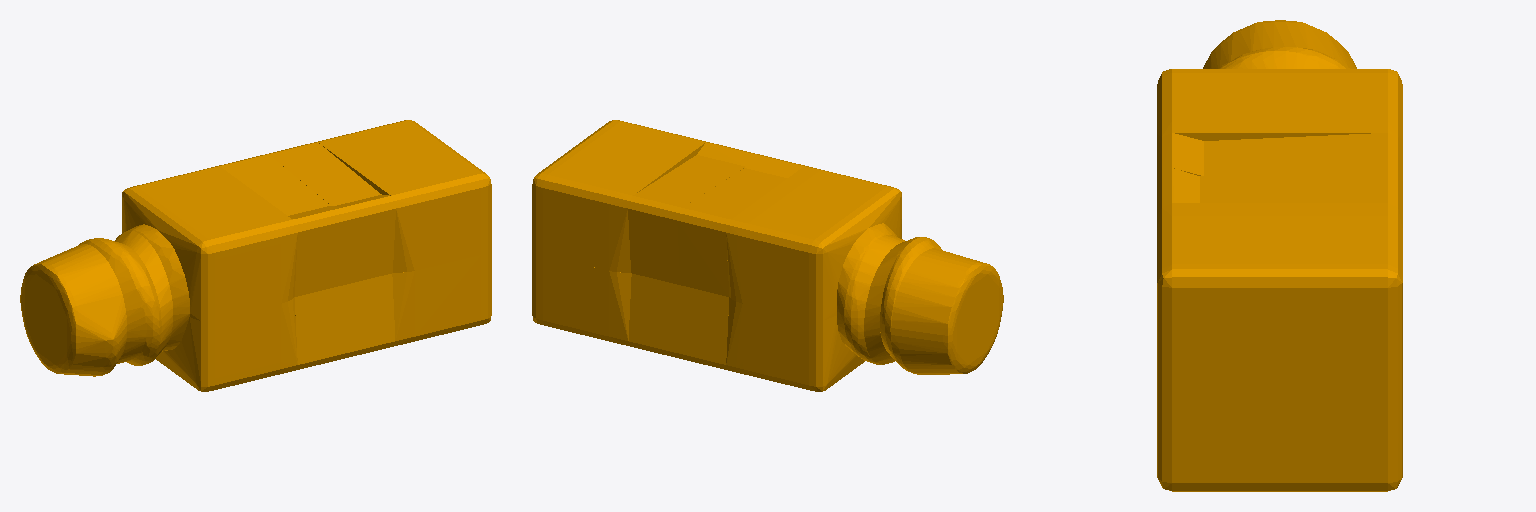
robot.urdf — square_table_leg4_coacd:
<?xml version="1.0"?>
<robot name="square_table_leg4_coacd">
  <link name="square_table_leg4_coacd">
    <visual><origin xyz="0 0 0" rpy="0 0 0"/><geometry><mesh filename="decomp_0.obj" scale="1 1 1"/></geometry></visual>
    <visual><origin xyz="0 0 0" rpy="0 0 0"/><geometry><mesh filename="decomp_1.obj" scale="1 1 1"/></geometry></visual>
    <visual><origin xyz="0 0 0" rpy="0 0 0"/><geometry><mesh filename="decomp_10.obj" scale="1 1 1"/></geometry></visual>
    <visual><origin xyz="0 0 0" rpy="0 0 0"/><geometry><mesh filename="decomp_11.obj" scale="1 1 1"/></geometry></visual>
    <visual><origin xyz="0 0 0" rpy="0 0 0"/><geometry><mesh filename="decomp_12.obj" scale="1 1 1"/></geometry></visual>
    <visual><origin xyz="0 0 0" rpy="0 0 0"/><geometry><mesh filename="decomp_13.obj" scale="1 1 1"/></geometry></visual>
    <visual><origin xyz="0 0 0" rpy="0 0 0"/><geometry><mesh filename="decomp_14.obj" scale="1 1 1"/></geometry></visual>
    <visual><origin xyz="0 0 0" rpy="0 0 0"/><geometry><mesh filename="decomp_15.obj" scale="1 1 1"/></geometry></visual>
    <visual><origin xyz="0 0 0" rpy="0 0 0"/><geometry><mesh filename="decomp_16.obj" scale="1 1 1"/></geometry></visual>
    <visual><origin xyz="0 0 0" rpy="0 0 0"/><geometry><mesh filename="decomp_2.obj" scale="1 1 1"/></geometry></visual>
    <visual><origin xyz="0 0 0" rpy="0 0 0"/><geometry><mesh filename="decomp_3.obj" scale="1 1 1"/></geometry></visual>
    <visual><origin xyz="0 0 0" rpy="0 0 0"/><geometry><mesh filename="decomp_4.obj" scale="1 1 1"/></geometry></visual>
    <visual><origin xyz="0 0 0" rpy="0 0 0"/><geometry><mesh filename="decomp_5.obj" scale="1 1 1"/></geometry></visual>
    <visual><origin xyz="0 0 0" rpy="0 0 0"/><geometry><mesh filename="decomp_6.obj" scale="1 1 1"/></geometry></visual>
    <visual><origin xyz="0 0 0" rpy="0 0 0"/><geometry><mesh filename="decomp_7.obj" scale="1 1 1"/></geometry></visual>
    <visual><origin xyz="0 0 0" rpy="0 0 0"/><geometry><mesh filename="decomp_8.obj" scale="1 1 1"/></geometry></visual>
    <visual><origin xyz="0 0 0" rpy="0 0 0"/><geometry><mesh filename="decomp_9.obj" scale="1 1 1"/></geometry></visual>
    <collision><origin xyz="0 0 0" rpy="0 0 0"/><geometry><mesh filename="decomp_0.obj" scale="1 1 1"/></geometry></collision>
    <collision><origin xyz="0 0 0" rpy="0 0 0"/><geometry><mesh filename="decomp_1.obj" scale="1 1 1"/></geometry></collision>
    <collision><origin xyz="0 0 0" rpy="0 0 0"/><geometry><mesh filename="decomp_10.obj" scale="1 1 1"/></geometry></collision>
    <collision><origin xyz="0 0 0" rpy="0 0 0"/><geometry><mesh filename="decomp_11.obj" scale="1 1 1"/></geometry></collision>
    <collision><origin xyz="0 0 0" rpy="0 0 0"/><geometry><mesh filename="decomp_12.obj" scale="1 1 1"/></geometry></collision>
    <collision><origin xyz="0 0 0" rpy="0 0 0"/><geometry><mesh filename="decomp_13.obj" scale="1 1 1"/></geometry></collision>
    <collision><origin xyz="0 0 0" rpy="0 0 0"/><geometry><mesh filename="decomp_14.obj" scale="1 1 1"/></geometry></collision>
    <collision><origin xyz="0 0 0" rpy="0 0 0"/><geometry><mesh filename="decomp_15.obj" scale="1 1 1"/></geometry></collision>
    <collision><origin xyz="0 0 0" rpy="0 0 0"/><geometry><mesh filename="decomp_16.obj" scale="1 1 1"/></geometry></collision>
    <collision><origin xyz="0 0 0" rpy="0 0 0"/><geometry><mesh filename="decomp_2.obj" scale="1 1 1"/></geometry></collision>
    <collision><origin xyz="0 0 0" rpy="0 0 0"/><geometry><mesh filename="decomp_3.obj" scale="1 1 1"/></geometry></collision>
    <collision><origin xyz="0 0 0" rpy="0 0 0"/><geometry><mesh filename="decomp_4.obj" scale="1 1 1"/></geometry></collision>
    <collision><origin xyz="0 0 0" rpy="0 0 0"/><geometry><mesh filename="decomp_5.obj" scale="1 1 1"/></geometry></collision>
    <collision><origin xyz="0 0 0" rpy="0 0 0"/><geometry><mesh filename="decomp_6.obj" scale="1 1 1"/></geometry></collision>
    <collision><origin xyz="0 0 0" rpy="0 0 0"/><geometry><mesh filename="decomp_7.obj" scale="1 1 1"/></geometry></collision>
    <collision><origin xyz="0 0 0" rpy="0 0 0"/><geometry><mesh filename="decomp_8.obj" scale="1 1 1"/></geometry></collision>
    <collision><origin xyz="0 0 0" rpy="0 0 0"/><geometry><mesh filename="decomp_9.obj" scale="1 1 1"/></geometry></collision>
    <inertial><density value="800.0"/></inertial>
  </link>
</robot>

--- Facts derived from the render (not from the file) ---
The picture shows the robot from 3 angles, left to right: view 1: azimuth 30°, elevation 25°; view 2: azimuth 150°, elevation 25°; view 3: azimuth 270°, elevation 25°; orthographic projection.
Robot: square_table_leg4_coacd — 1 links, 0 joints (none); root link square_table_leg4_coacd; default pose: every joint at zero.
Visible links, largest first — view 1: square_table_leg4_coacd; view 2: square_table_leg4_coacd; view 3: square_table_leg4_coacd.
Link boxes in pixels (x1,y1,x2,y2): square_table_leg4_coacd: (20, 120, 491, 391); square_table_leg4_coacd: (532, 120, 1003, 391); square_table_leg4_coacd: (1157, 20, 1402, 491).
Bounding box of the posed robot: 0.0891 × 0.0316 × 0.0316 m (x, y, z).
Meshes: 17 distinct files referenced, 17 mesh visuals loaded (17 OBJ).
